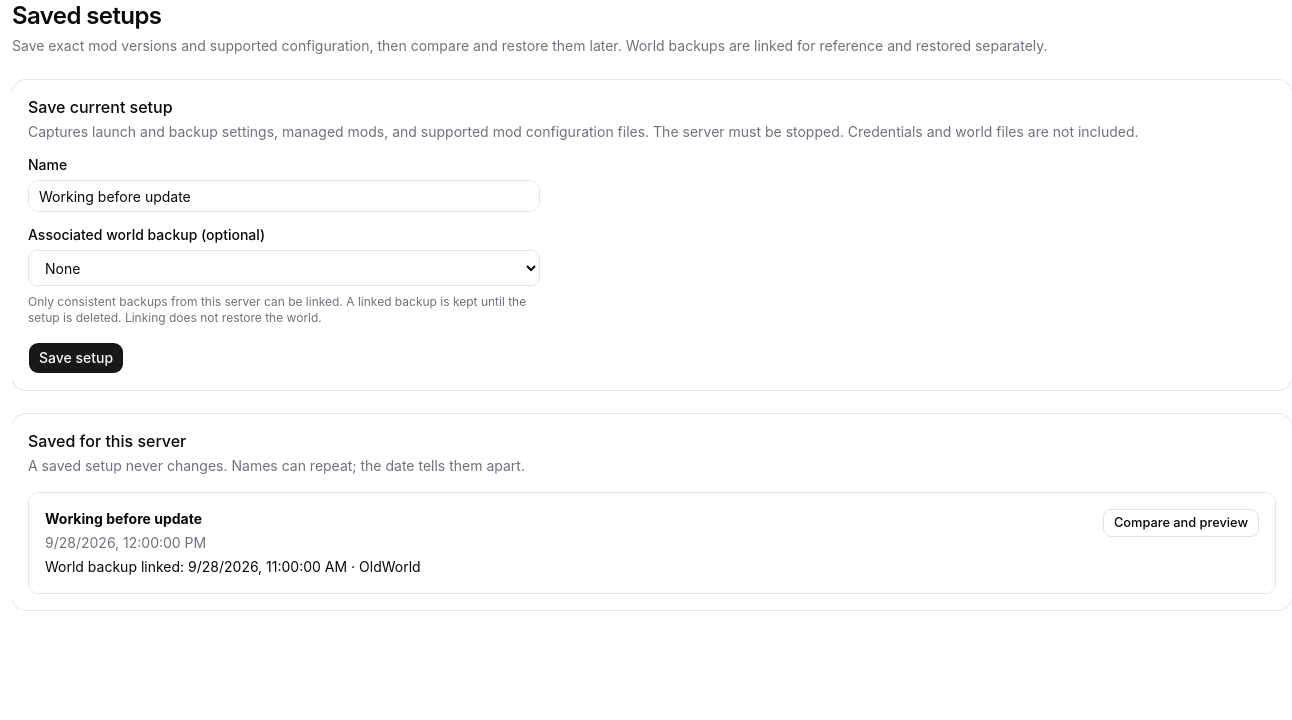
Scenario: Saved setups › identifies an unavailable linked world backup without blocking setup restore
The width and height of the screenshot is (1292, 720).
Step 1. Click the button "Compare and preview" → (1181, 523), box [1103, 509, 1259, 537]
(page scrolled)
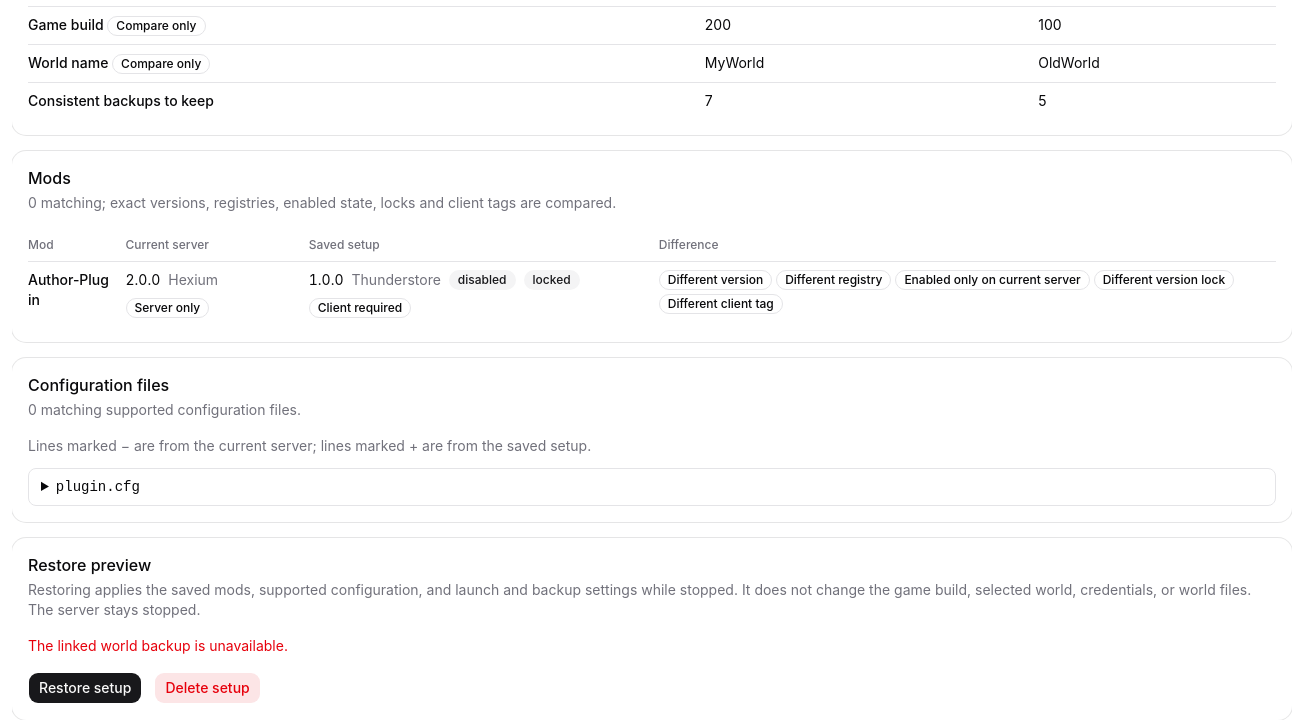
Now the button "Restore setup" is enabled, box [28, 672, 142, 704]
